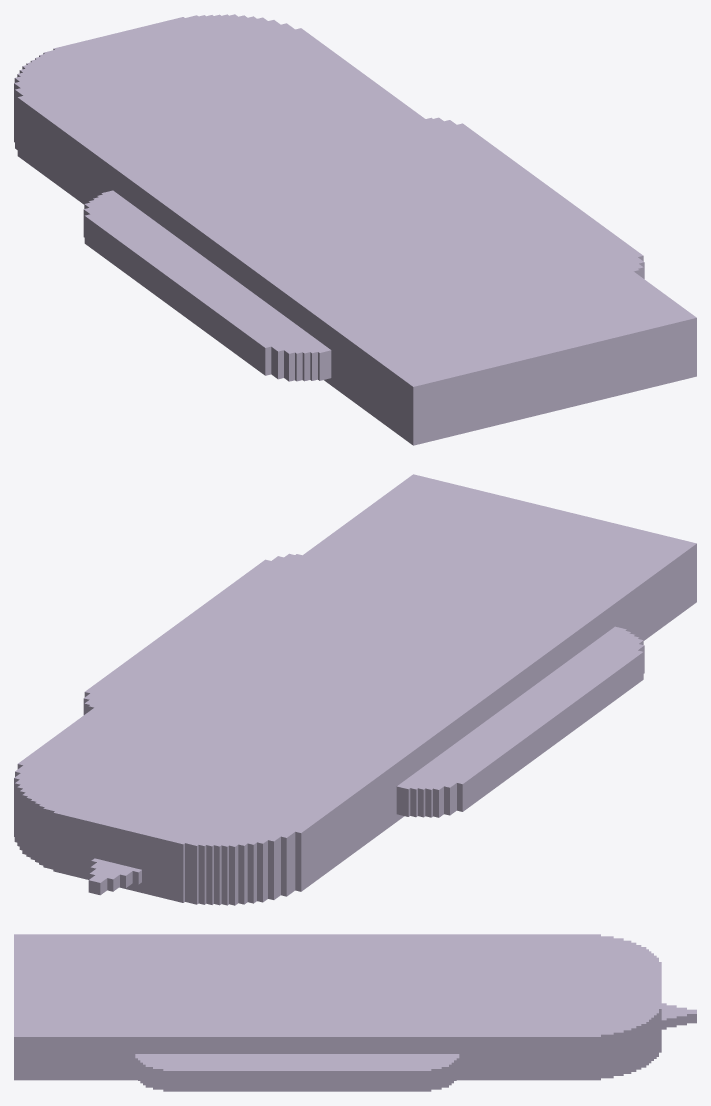
Rendered from au.l.cathedral-r3.glb.
3 views of the same model, one above another, from view 1: azimuth 30°, elevation 25°; view 2: azimuth 150°, elevation 25°; view 3: azimuth 270°, elevation 25° (orthographic). The views are drawn at different scales.
Visible parts, largest first — view 1: ReviewedAuthoredCelestial; view 2: ReviewedAuthoredCelestial; view 3: ReviewedAuthoredCelestial.
Part boxes in pixels (box(x1,y1,x2,y2)): ReviewedAuthoredCelestial: box(14, 14, 696, 445); ReviewedAuthoredCelestial: box(14, 474, 696, 905); ReviewedAuthoredCelestial: box(14, 934, 696, 1091).
Bounding box in the file's own units: 16 × 2.38 × 33.75.
